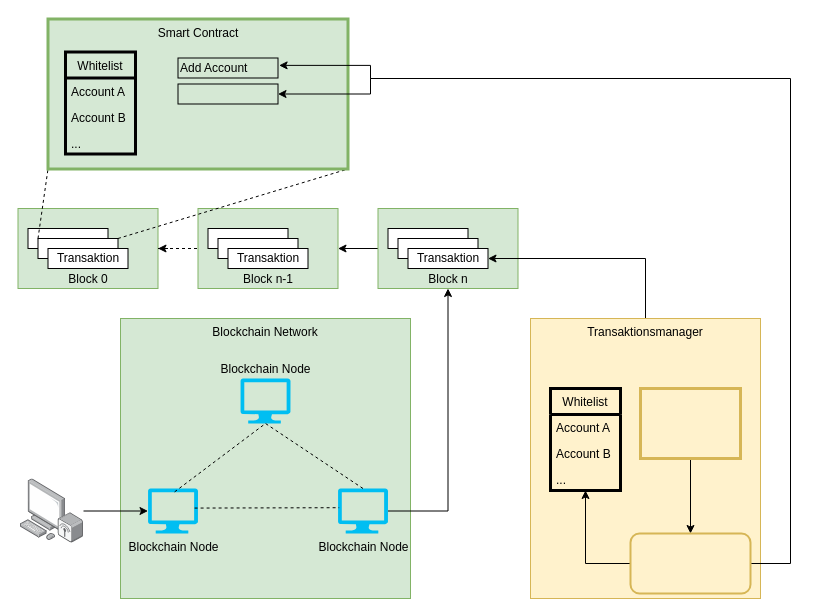
Image size: 816x616. Some labels were removed from this diagram. The centre of each missing label's shape, as x and y in pixels:
"Benutzer" goes at (x=51, y=510).
"DoS Algorithmus" goes at (x=690, y=423).
"Remove Account" goes at (x=227, y=93).
"Verwalten der berechtigten Accounts" goes at (x=690, y=563).
